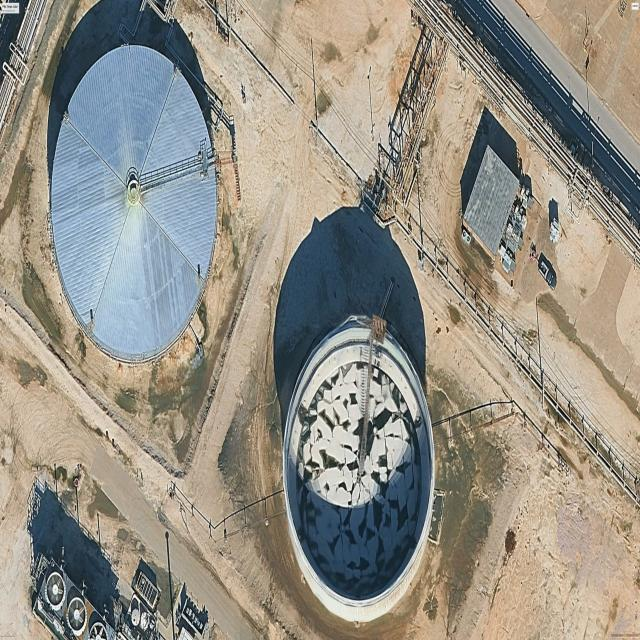Oil Rafinery: (48, 44, 217, 362), (283, 316, 434, 622)
